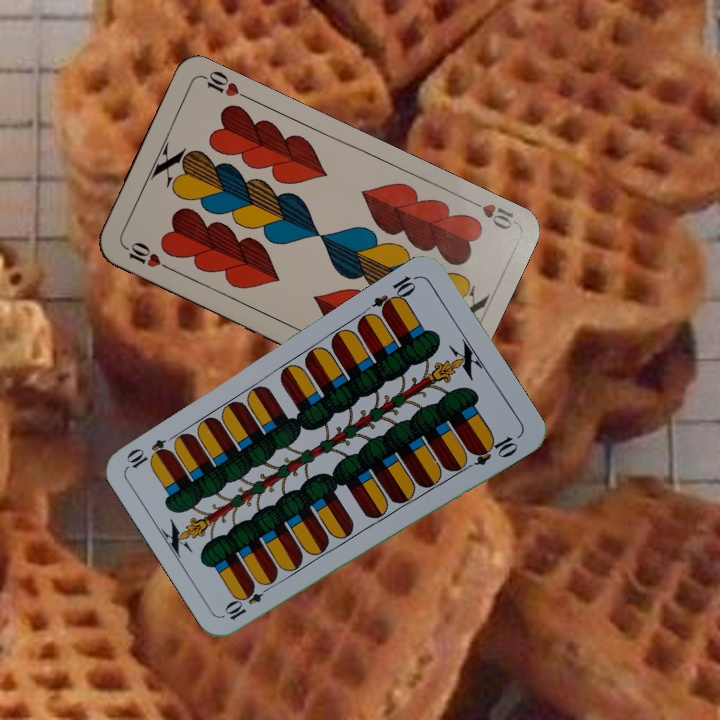E10: (368, 271, 421, 318), (221, 579, 275, 623)
H10: (462, 194, 518, 233), (120, 238, 175, 274)
